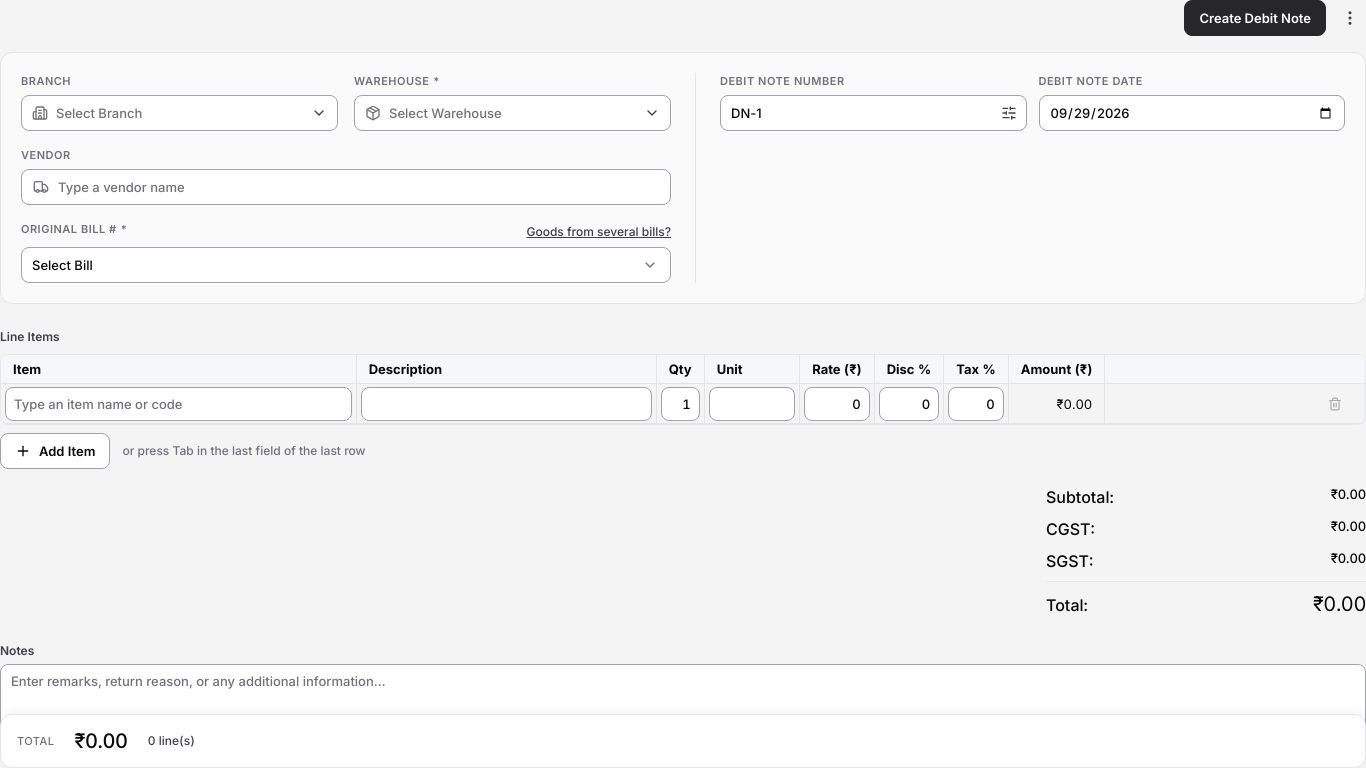
Test: the purchase return asks what the bill asks › renumbers this return when its own series changes
The width and height of the screenshot is (1366, 768).
Click the button named "Return numbering settings" at (1008, 113), box top-left (994, 99), bottom-right (1022, 127)
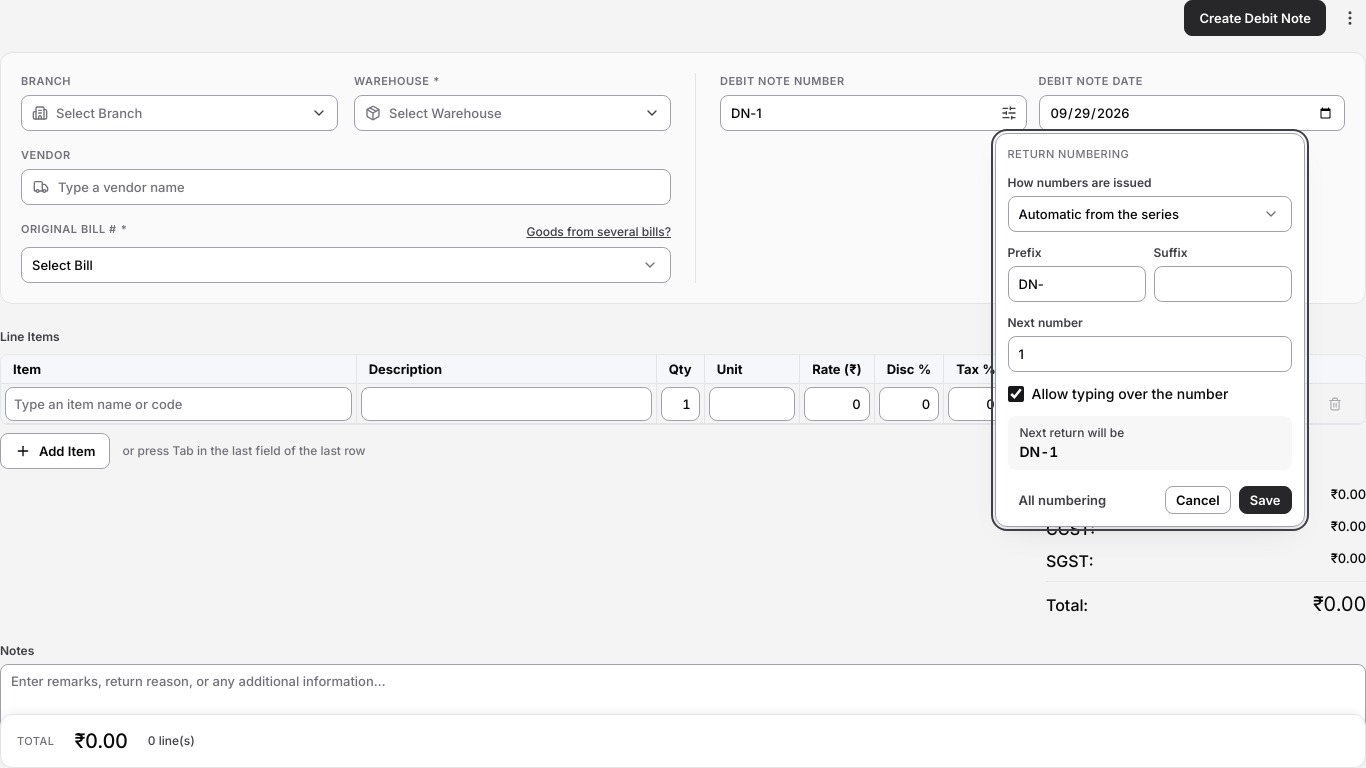
Replace the text in the field labelled "Prefix" with "PR-" at (1076, 284), box top-left (1008, 266), bottom-right (1146, 302)
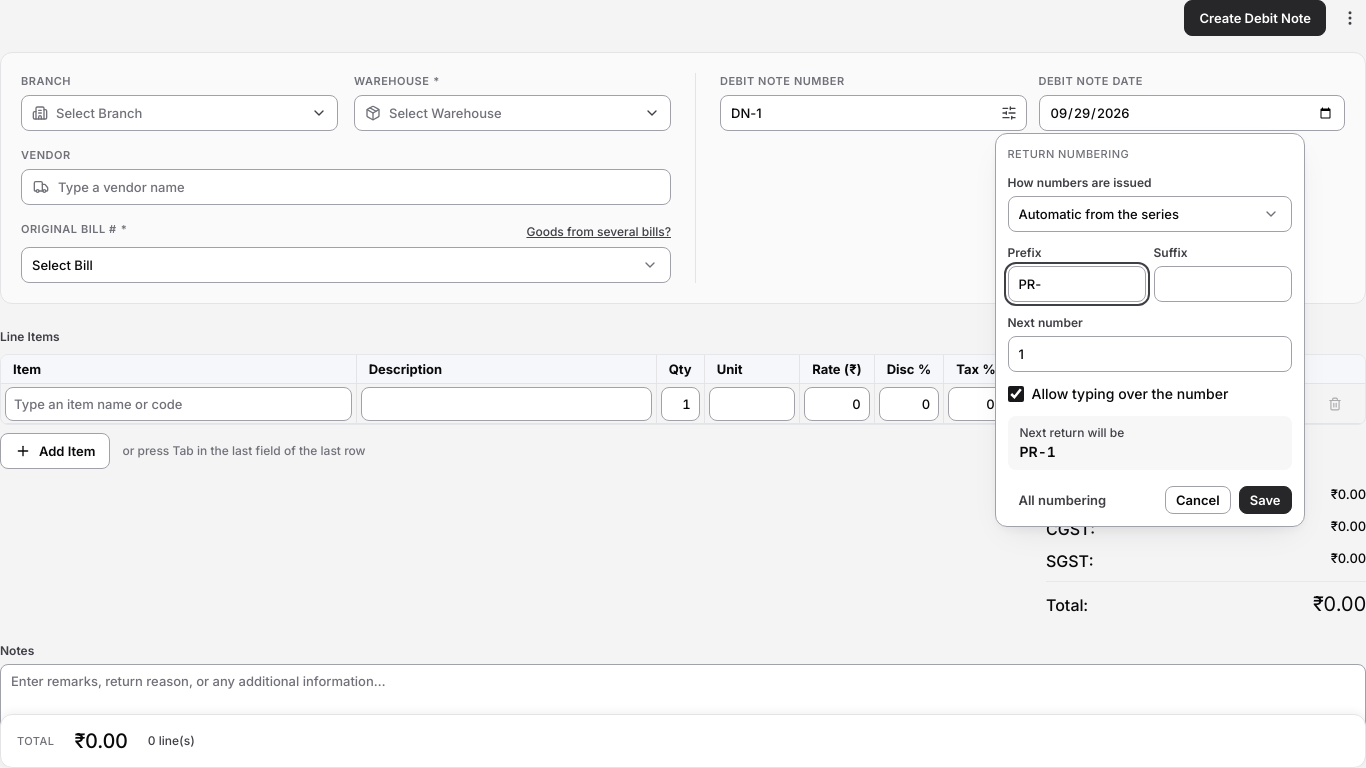
Replace the text in the number field labelled "Next number" with "4" at (1150, 354), box top-left (1008, 336), bottom-right (1292, 372)
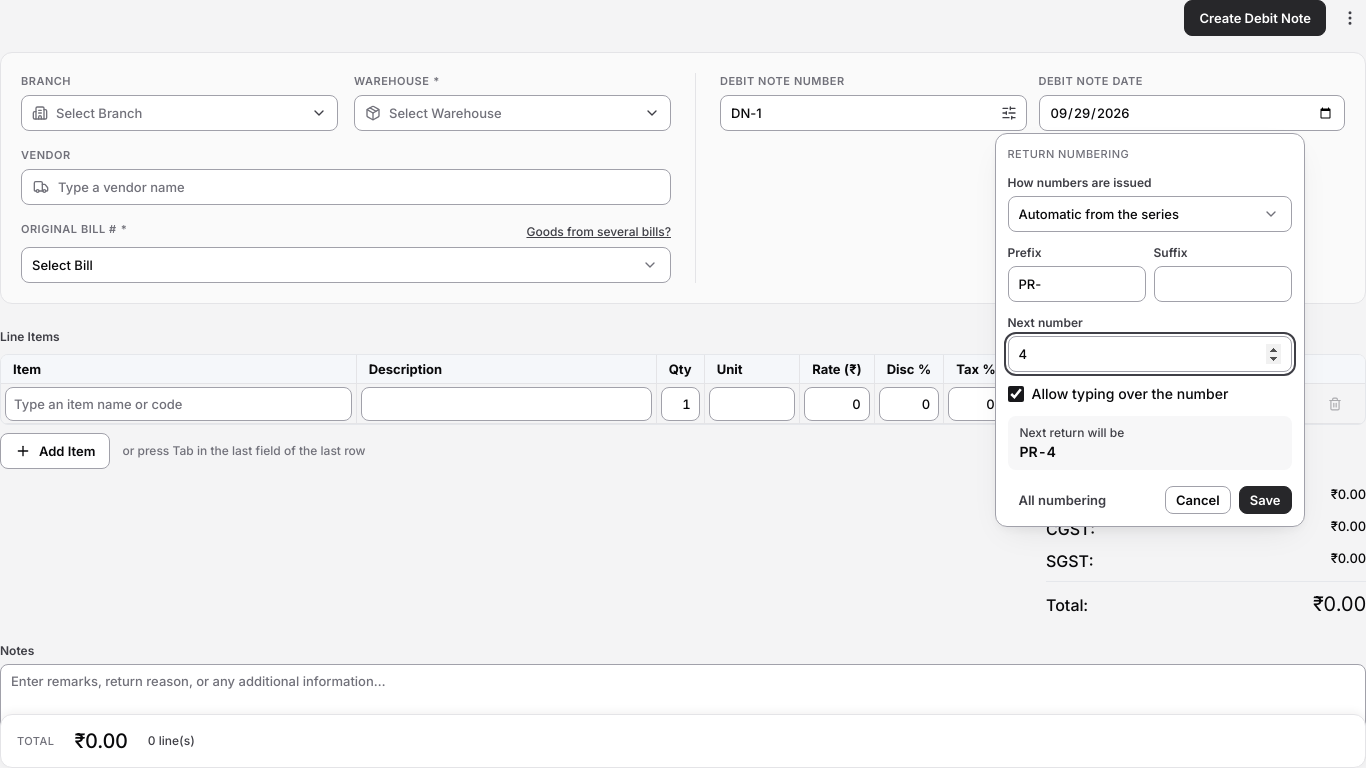
Click the button "Save" at (1265, 500), box top-left (1239, 486), bottom-right (1292, 514)
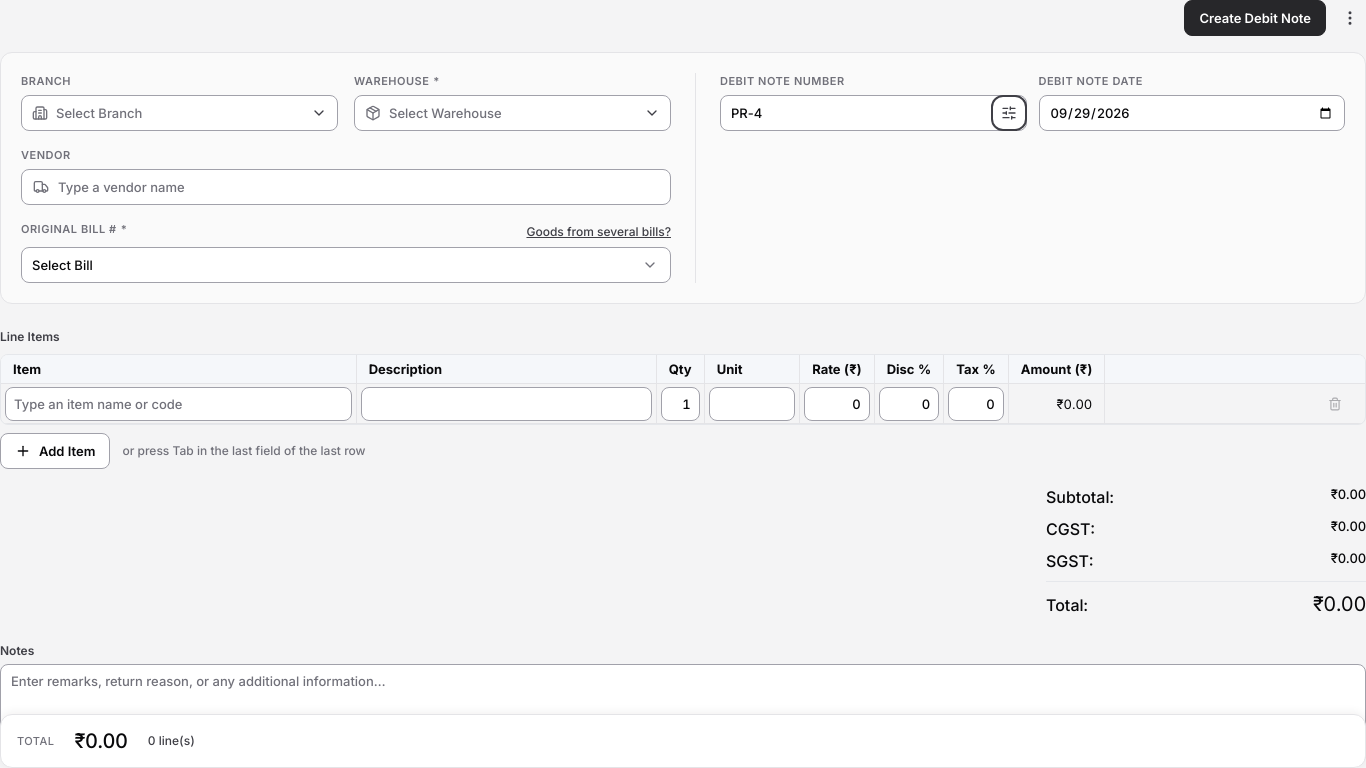
Expected: the field labelled "Debit Note Number" holds "PR-4", top-left (720, 95), bottom-right (1026, 131)
